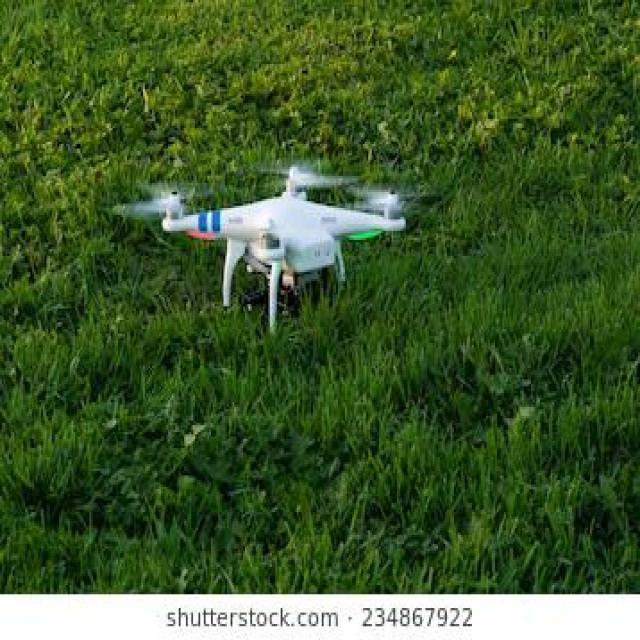drone: (117, 129, 421, 348)
